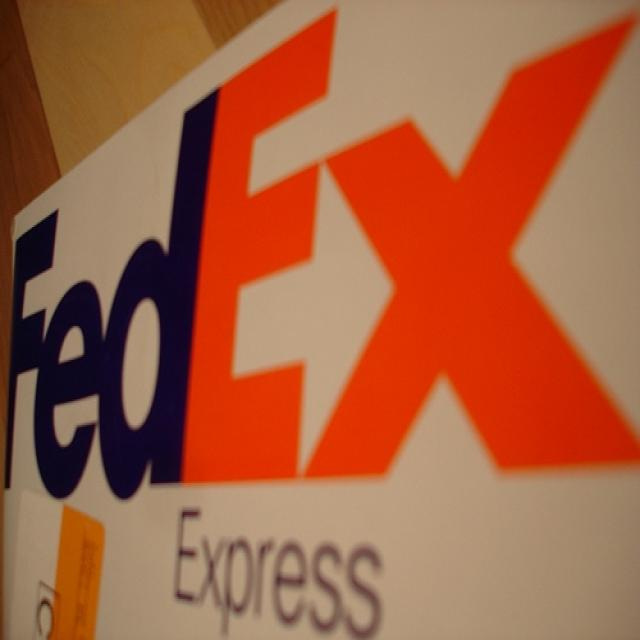fedex: (2, 5, 640, 510)
